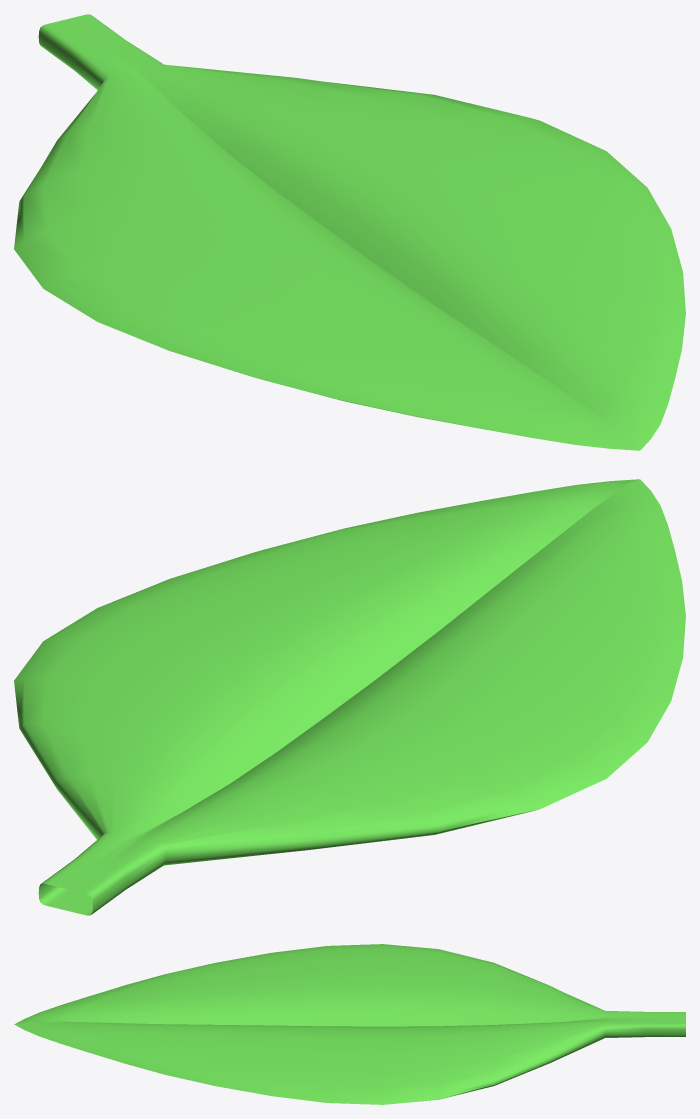
File: Leafy.fbx
The picture shows the model from 3 angles, top to bottom: view 1: azimuth 30°, elevation 25°; view 2: azimuth 150°, elevation 25°; view 3: azimuth 270°, elevation 25°; orthographic projection. The views are drawn at different scales.
Parts seen in each view (by area): view 1: Cube.001; view 2: Cube.001; view 3: Cube.001.
Boxes of the visible parts, left/top/right/bottom form: Cube.001: left=14, top=14, right=685, bottom=450; Cube.001: left=14, top=479, right=685, bottom=915; Cube.001: left=14, top=944, right=685, bottom=1104.
Bounding box in the file's own units: 131 × 232 × 6.85.
